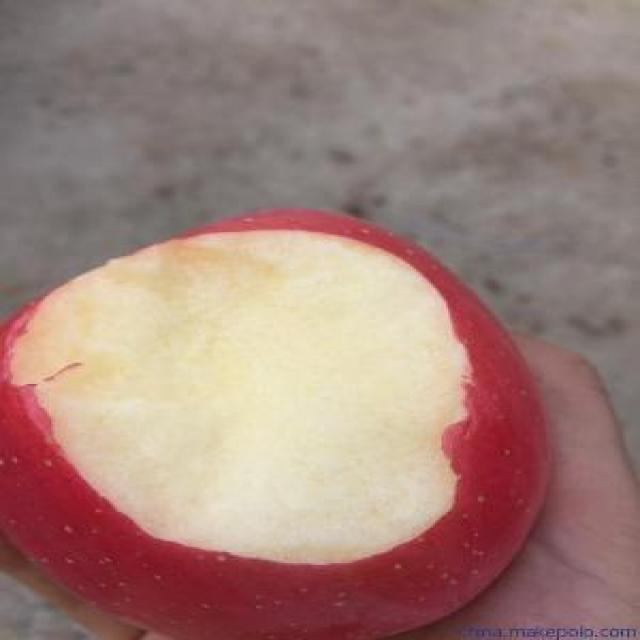Apple: (3, 212, 525, 640)
